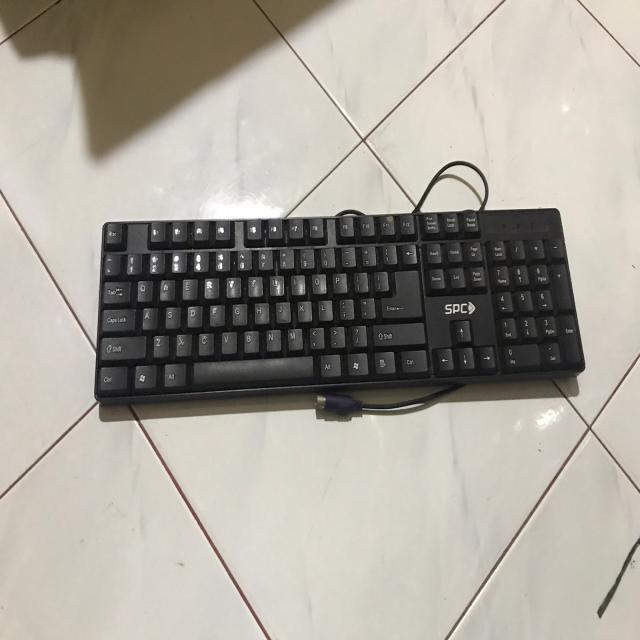-mouse-: (94, 207, 586, 397)
